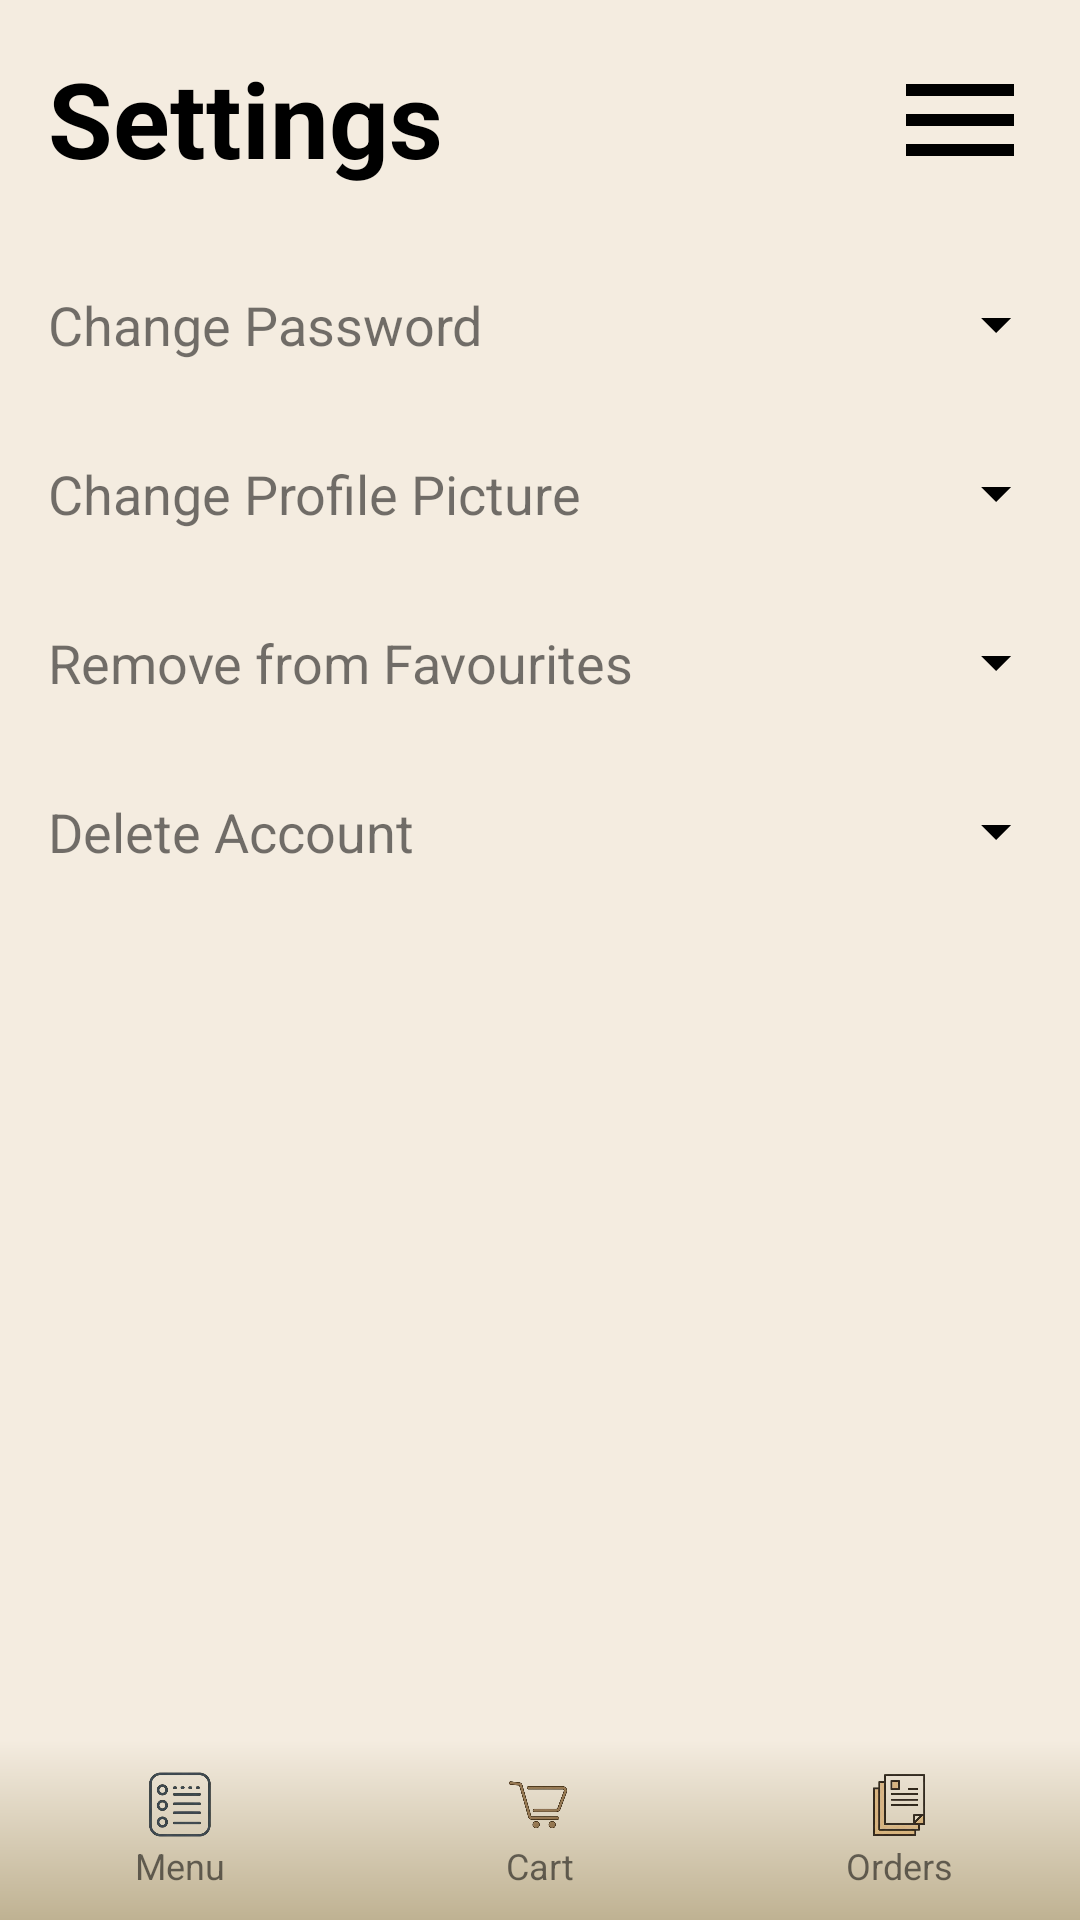

Where to tap for icons on this 1080*1920 app screen, as [x,y]:
expand: [996,325], [996,494], [996,663], [996,832]
